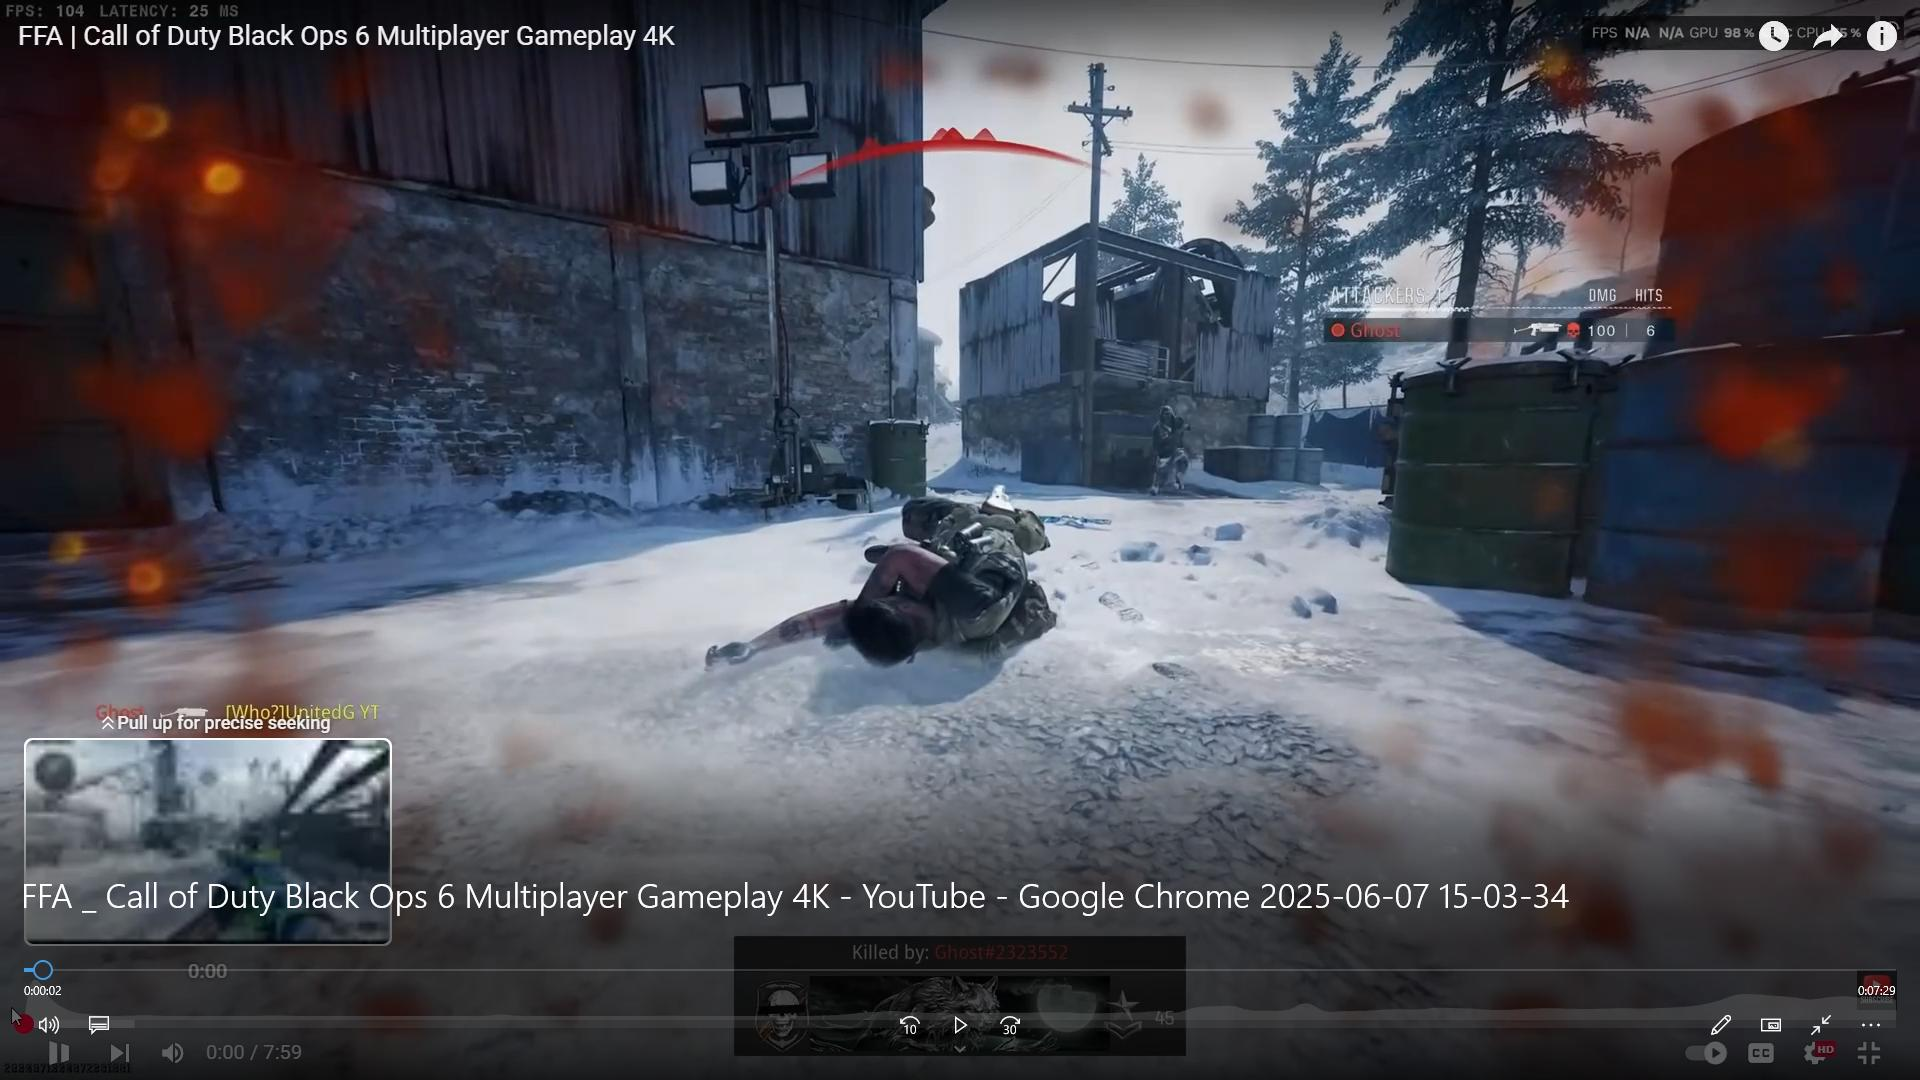Enemy: (1147, 401, 1193, 498)
